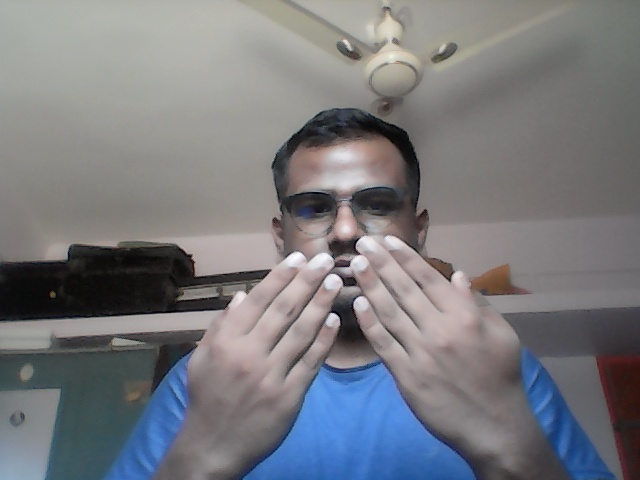Thank You: (184, 232, 527, 449)
